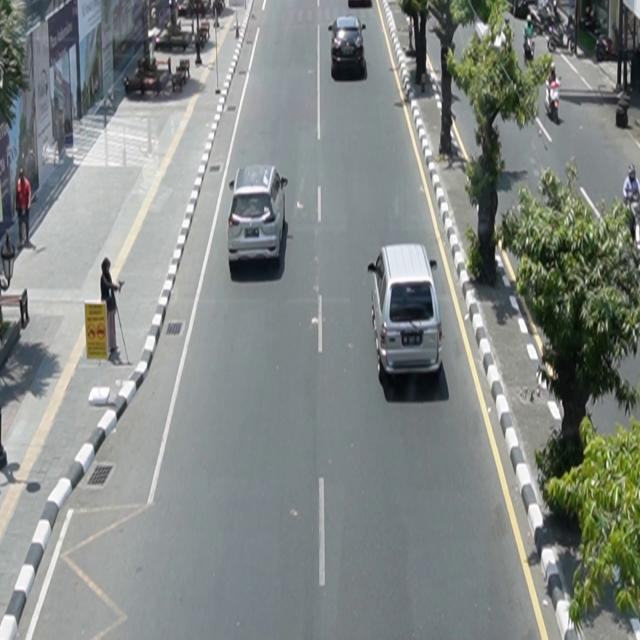car: (228, 164, 289, 266), (329, 16, 367, 76)
